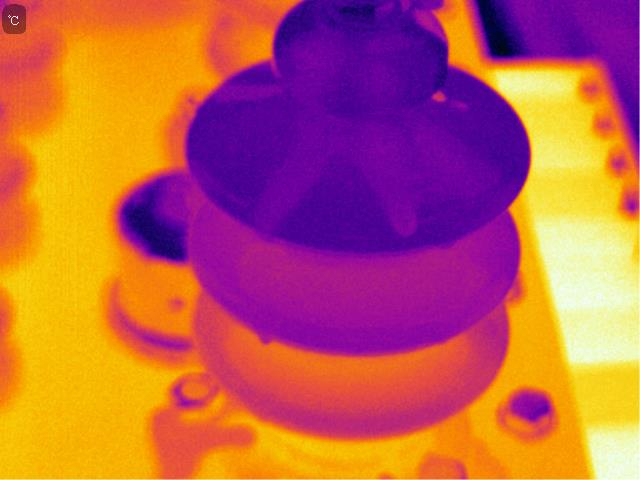Oil: (351, 127, 513, 238), (253, 120, 339, 249), (281, 22, 351, 114), (199, 44, 287, 105), (359, 28, 417, 117), (416, 10, 452, 46), (430, 86, 473, 116), (251, 319, 280, 355), (433, 235, 463, 256)
